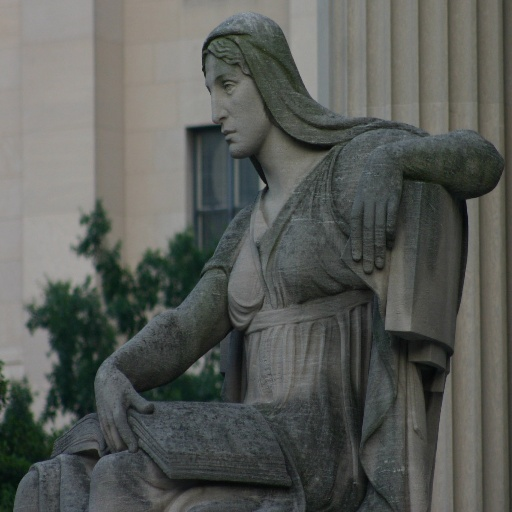hand: (83, 349, 154, 469), (349, 152, 402, 273)
